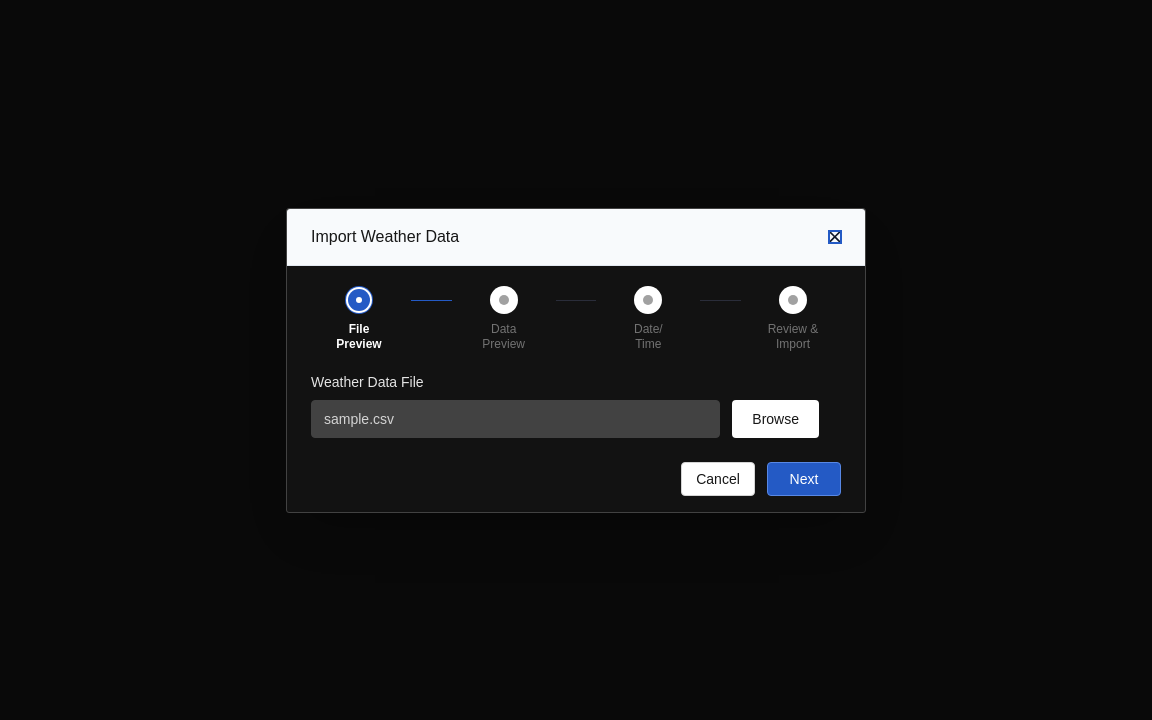
it: <ImportWizard /> › clicking Next on step 1 advances to step 2 (data preview)
The width and height of the screenshot is (1152, 720).
Click the button "Next": (804, 478) x1=767 y1=462 x2=841 y2=496
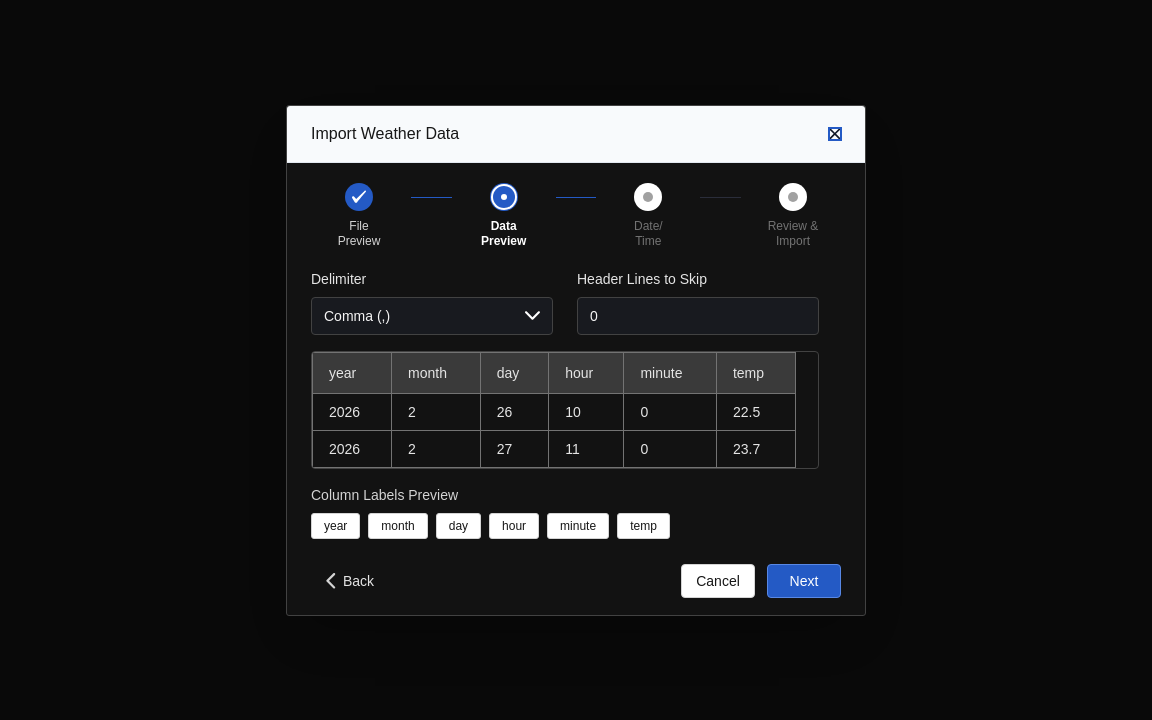
Result: the text "Delimiter" is shown at x1=311 y1=270 x2=366 y2=286
Result: the text "Header Lines to Skip" is shown at x1=577 y1=270 x2=707 y2=286
